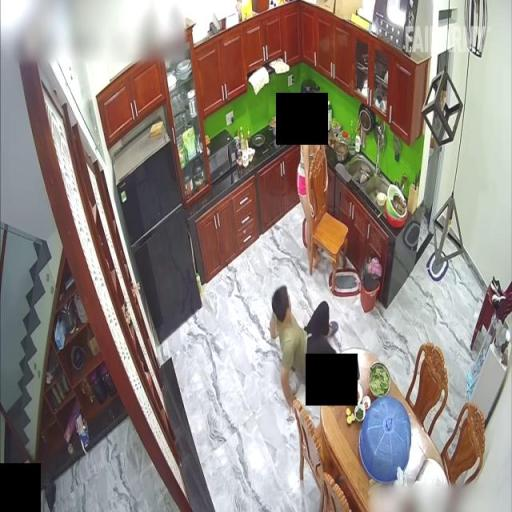Fall: (265, 281, 341, 415)
